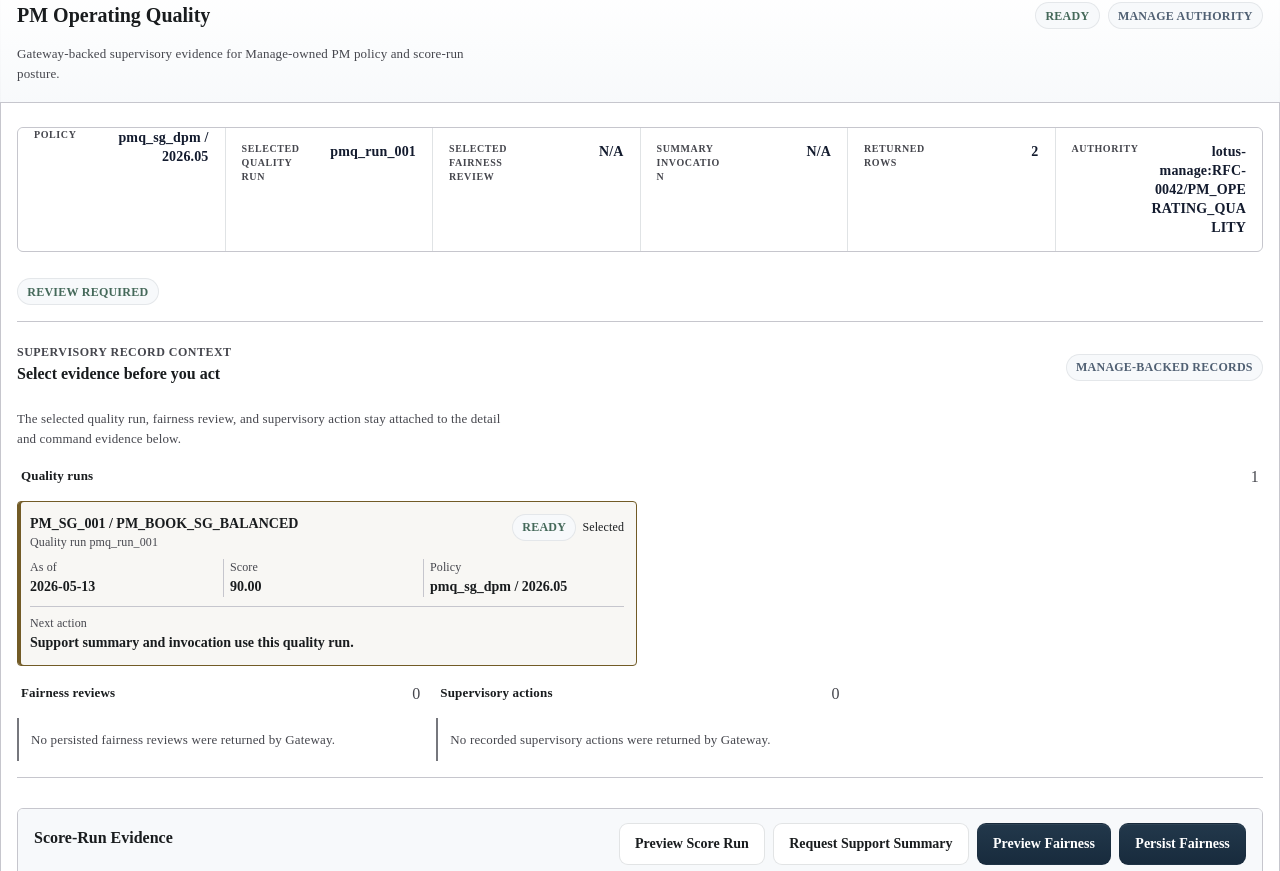
Test case: PmOperatingQualityPanel › requests a review-required PM quality support summary through Gateway
Click the button "Request Support Summary" at {"x": 871, "y": 844}, box [773,823,969,865]
(page scrolled)
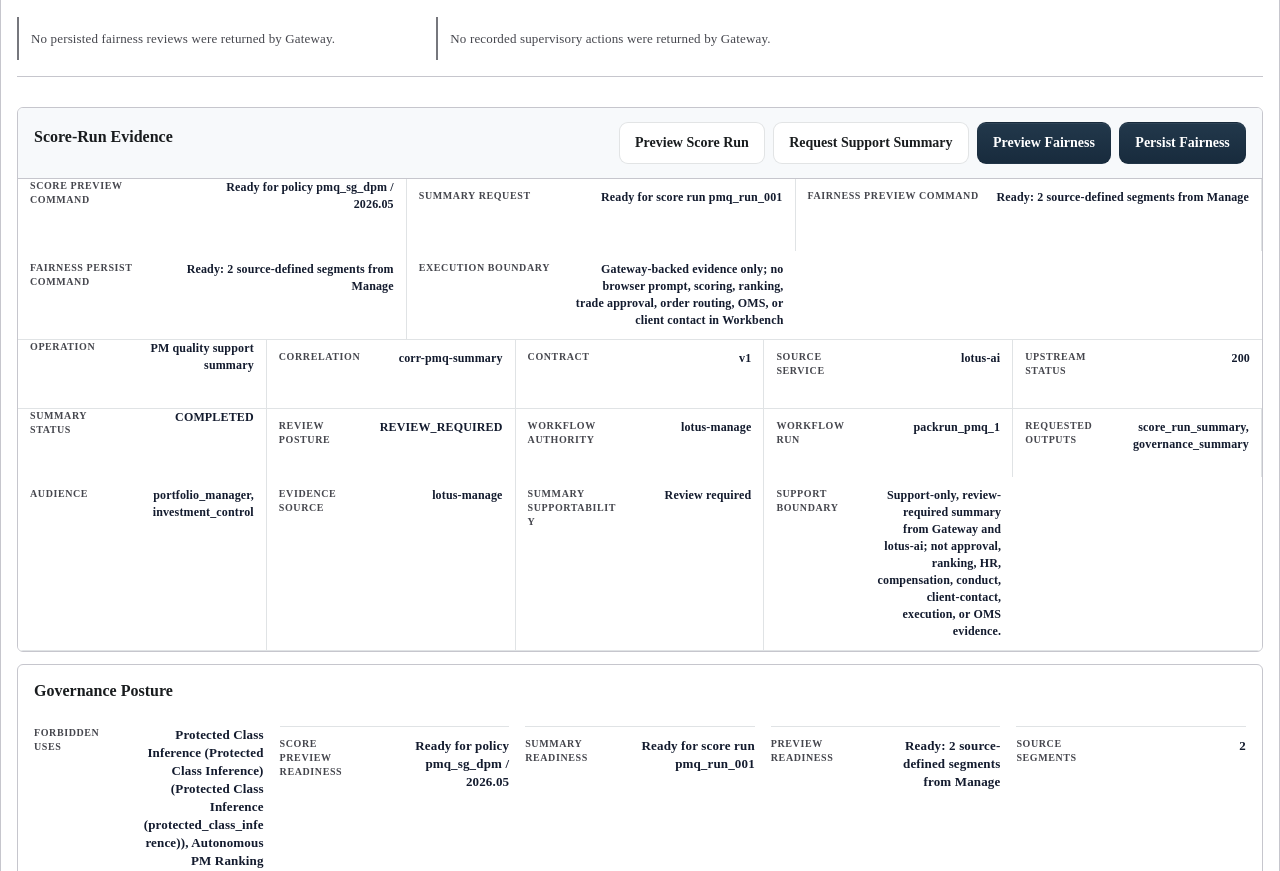
Check: the text "COMPLETED" is shown, box [175,410,254,424]
Check: the text "REVIEW_REQUIRED" is shown, box [376,419,503,436]
Check: the text "lotus-manage" next to "Workflow Authority" is shown, box [681,420,751,434]
